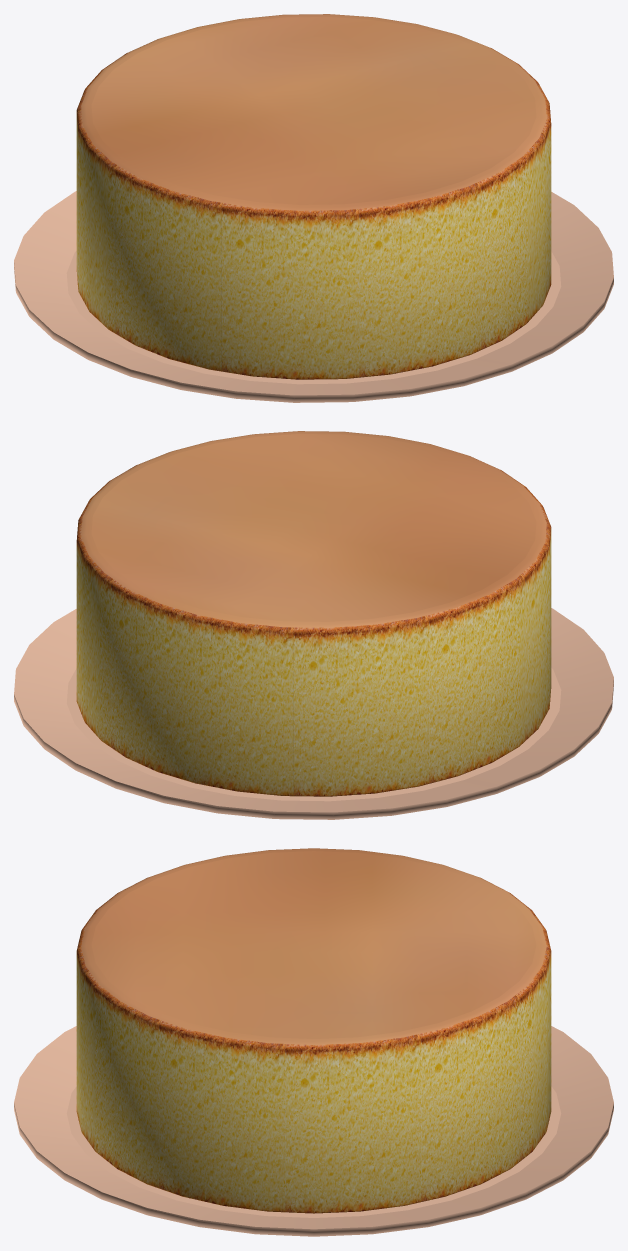
File: Cake1.fbx
The picture shows the model from 3 angles, top to bottom: view 1: azimuth 30°, elevation 25°; view 2: azimuth 150°, elevation 25°; view 3: azimuth 270°, elevation 25°; orthographic projection.
Visible parts, largest first — view 1: Cylinder.001; view 2: Cylinder.001; view 3: Cylinder.001.
Part boxes in pixels (x1,y1,x2,y2): Cylinder.001: (14, 14, 613, 402); Cylinder.001: (14, 431, 613, 819); Cylinder.001: (14, 848, 613, 1236).
Bounding box in the file's own units: 253 × 81.33 × 253.
